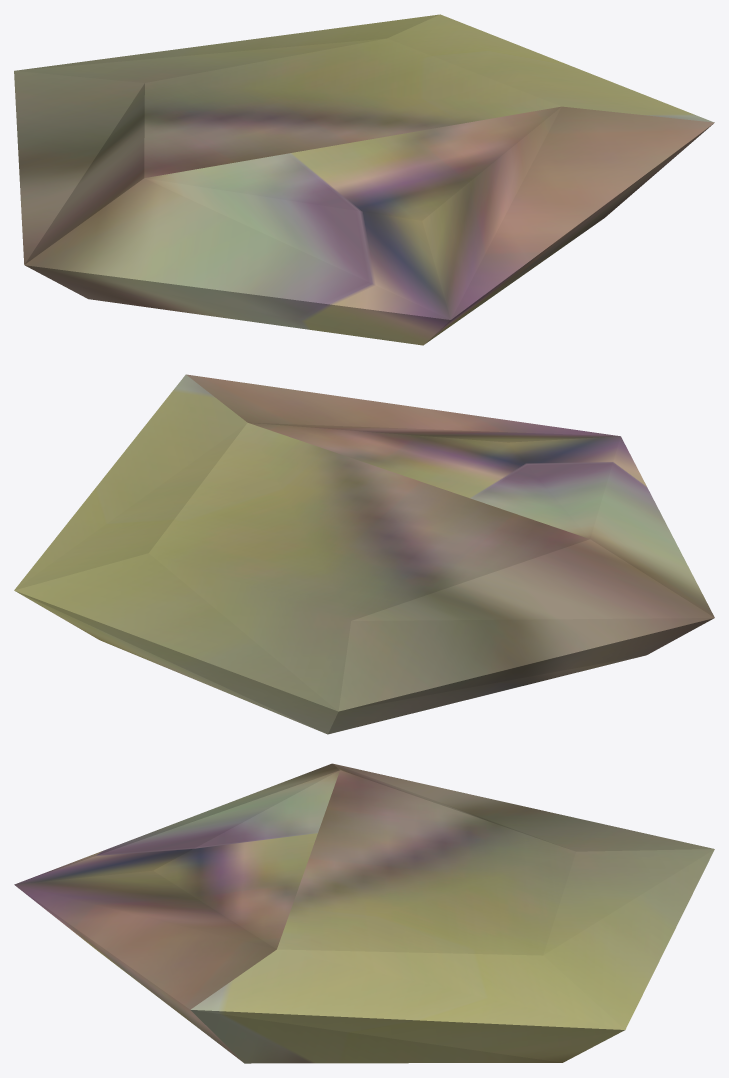
Rendered from PlateTree_1_Plate_11.gltf.
3 renders of one model, top to bottom at view 1: azimuth 30°, elevation 25°; view 2: azimuth 150°, elevation 25°; view 3: azimuth 270°, elevation 25°, orthographic. The views are drawn at different scales.
Visible parts, largest first — view 1: PlateTree_1_Plate_11; view 2: PlateTree_1_Plate_11; view 3: PlateTree_1_Plate_11.
Part boxes in pixels (bbox=[...]): PlateTree_1_Plate_11: bbox=[14, 14, 714, 345]; PlateTree_1_Plate_11: bbox=[14, 374, 714, 734]; PlateTree_1_Plate_11: bbox=[14, 763, 714, 1063].
Size of the model in its own units: 1.04 by 0.1876 by 1.06.
Materials: 1 (1 with a texture image).
